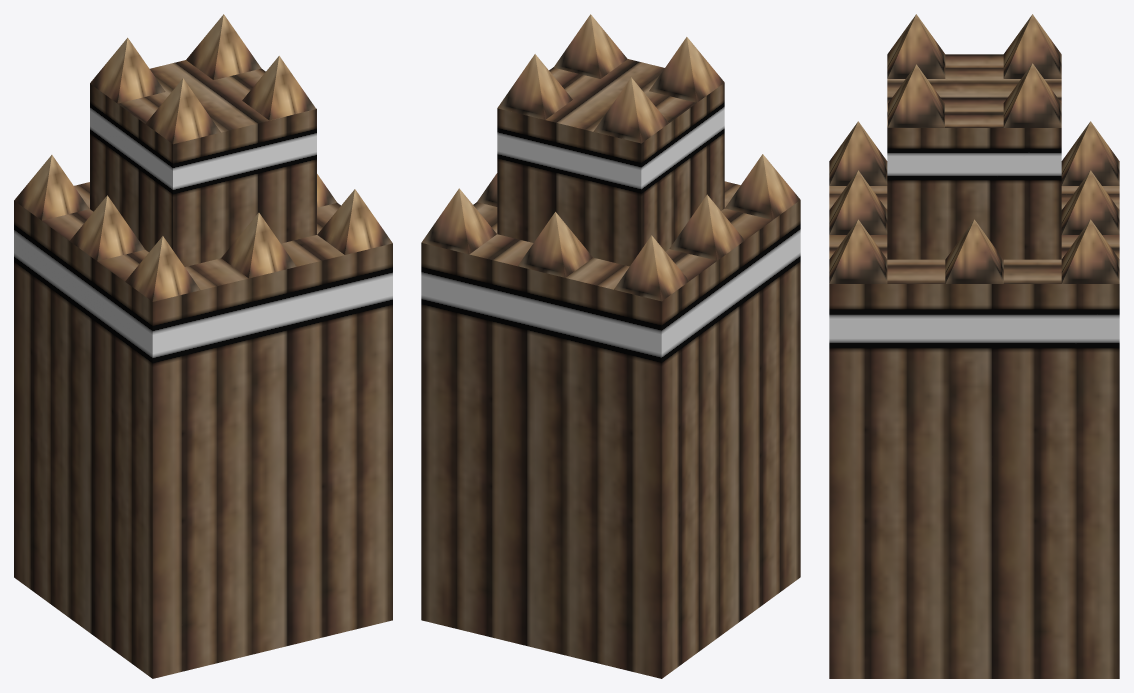
Rendered from wall_connector.DAE.
3 views of the same model, side by side, from view 1: azimuth 30°, elevation 25°; view 2: azimuth 150°, elevation 25°; view 3: azimuth 270°, elevation 25° (orthographic). The views are drawn at different scales.
Visible parts, largest first — view 1: Box007; view 2: Box007; view 3: Box007.
Boxes of the visible parts, <box> form: Box007: <box>14,14,392,678</box>; Box007: <box>421,14,800,678</box>; Box007: <box>829,14,1119,678</box>.
Size of the model in its own units: 10 by 10 by 22.
